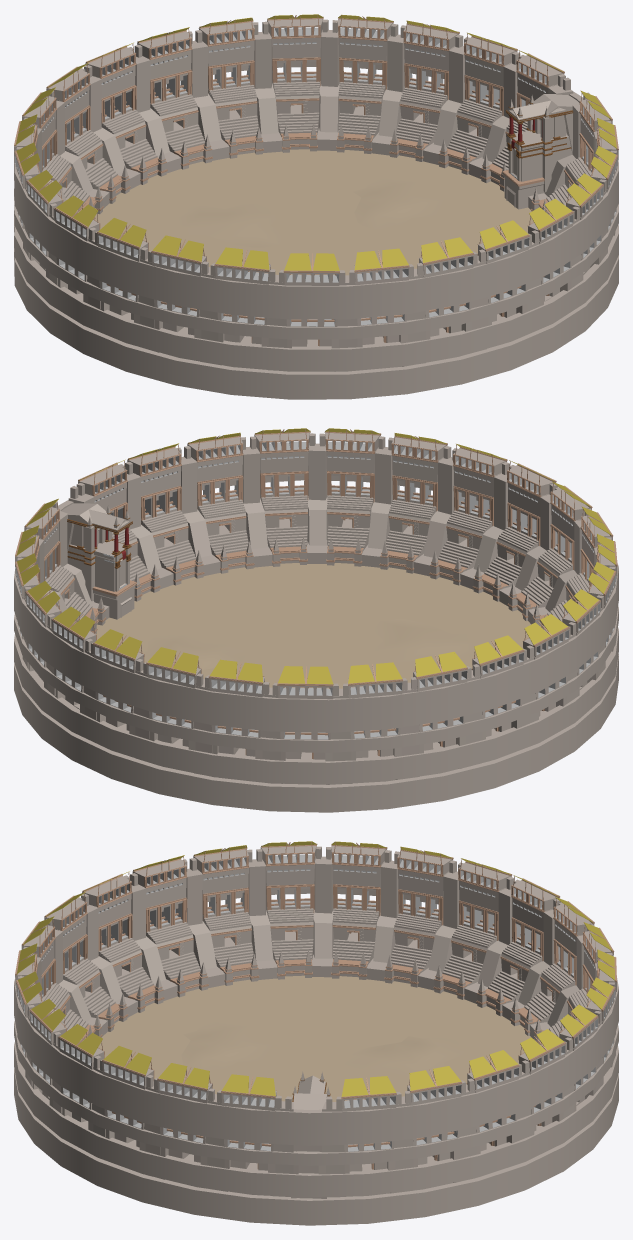
The model's file is arena.fbx.
3 views of the same model, one above another, from view 1: azimuth 30°, elevation 25°; view 2: azimuth 150°, elevation 25°; view 3: azimuth 270°, elevation 25° (orthographic).
Visible parts, largest first — view 1: pCylinder1; view 2: pCylinder1; view 3: pCylinder1.
Part boxes in pixels (x1,y1,x2,y2): pCylinder1: (14,14,618,399); pCylinder1: (14,428,618,812); pCylinder1: (14,841,618,1225).
Bounding box in the file's own units: 42.77 × 10.72 × 42.77.
